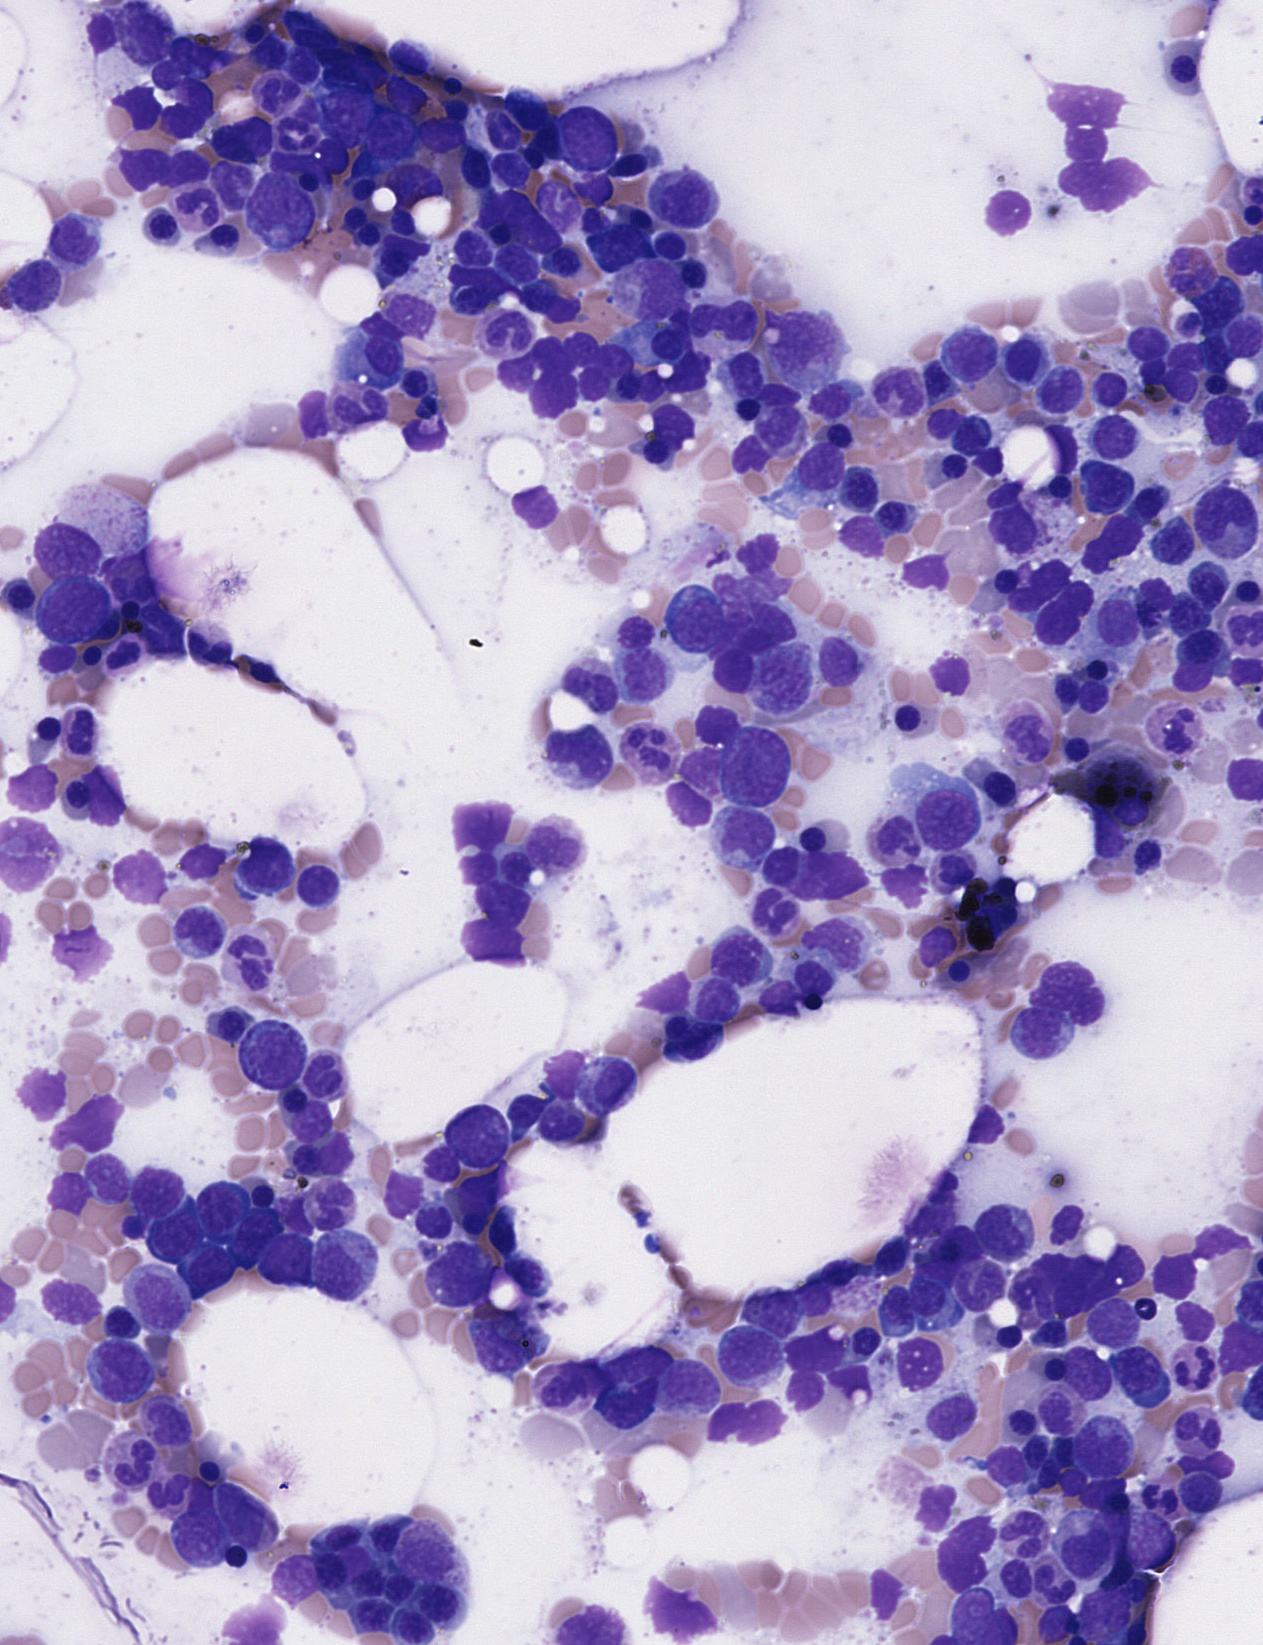objectness: (901, 1271, 951, 1321), (1014, 1006, 1064, 1056), (127, 1272, 178, 1323), (815, 913, 865, 963), (620, 730, 670, 780), (176, 176, 227, 227), (326, 382, 377, 432), (305, 1173, 356, 1223), (1024, 1555, 1075, 1605), (1011, 1271, 1061, 1321), (747, 889, 797, 939), (995, 1500, 1045, 1551), (245, 68, 296, 118), (52, 706, 102, 756), (612, 710, 662, 760), (482, 300, 532, 350), (1002, 706, 1052, 756), (295, 1055, 345, 1105), (972, 1207, 1023, 1258), (1055, 1522, 1105, 1572), (657, 1361, 707, 1412), (308, 1239, 358, 1289), (119, 7, 170, 57), (756, 401, 807, 451), (658, 172, 708, 223), (694, 291, 744, 341), (525, 821, 576, 872), (142, 1400, 192, 1450), (540, 1365, 590, 1415), (925, 840, 975, 890), (563, 110, 613, 161), (259, 1234, 309, 1284), (96, 1345, 146, 1396), (320, 85, 370, 135), (308, 129, 358, 179), (451, 1206, 501, 1256), (1043, 1189, 1093, 1239), (1035, 958, 1085, 1008), (923, 1226, 974, 1276), (626, 362, 677, 413), (964, 1100, 1015, 1150), (1048, 1259, 1098, 1309), (776, 314, 827, 365), (982, 1439, 1032, 1490), (429, 61, 479, 111), (642, 967, 693, 1018), (519, 207, 569, 257), (283, 386, 333, 436), (248, 840, 299, 890), (1028, 1239, 1079, 1289), (1154, 1251, 1205, 1301), (429, 85, 479, 135), (791, 1320, 841, 1370), (232, 110, 283, 161), (106, 586, 157, 637), (828, 505, 878, 556), (1161, 337, 1211, 387), (72, 3, 122, 53), (1173, 1295, 1223, 1345), (784, 1279, 834, 1329), (751, 369, 801, 419), (490, 874, 540, 925), (17, 1067, 68, 1117), (496, 345, 547, 395), (175, 841, 226, 891), (494, 841, 544, 891), (1133, 568, 1183, 618), (80, 767, 130, 817), (394, 417, 444, 467), (945, 325, 995, 375), (146, 33, 196, 84), (1120, 593, 1170, 643), (1055, 117, 1105, 167), (823, 1353, 873, 1404), (179, 32, 230, 82), (1076, 151, 1126, 202), (756, 840, 807, 890), (1194, 1442, 1244, 1492), (531, 353, 581, 403), (458, 1165, 508, 1215), (1088, 1296, 1138, 1347), (452, 842, 503, 893), (490, 183, 540, 233), (704, 649, 755, 699), (1125, 348, 1175, 398), (517, 374, 568, 425), (565, 166, 616, 216), (1158, 363, 1209, 414), (378, 194, 429, 244), (231, 7, 281, 57), (272, 1190, 322, 1240), (504, 482, 555, 532), (711, 589, 762, 639), (1098, 505, 1149, 556), (84, 604, 134, 654), (743, 1284, 793, 1335), (283, 86, 333, 137), (450, 272, 500, 322), (730, 524, 780, 574), (539, 1045, 589, 1096), (474, 110, 524, 161), (134, 1165, 184, 1215), (42, 1167, 93, 1218), (754, 972, 804, 1023), (723, 428, 773, 479), (379, 1163, 430, 1214), (565, 321, 616, 371), (907, 919, 958, 970), (994, 500, 1044, 551), (463, 186, 513, 236), (755, 650, 805, 700), (738, 1400, 788, 1450), (728, 617, 779, 667), (979, 182, 1030, 232), (57, 919, 107, 970), (267, 1557, 317, 1608), (279, 40, 329, 90), (1174, 1466, 1225, 1516), (291, 860, 341, 910), (689, 978, 739, 1028), (447, 220, 498, 271), (1092, 414, 1142, 464), (1118, 316, 1169, 366), (1033, 366, 1084, 417), (483, 146, 533, 196), (1083, 362, 1133, 413), (501, 1081, 552, 1132), (306, 1546, 357, 1596), (413, 1577, 463, 1628), (65, 630, 115, 681), (838, 1315, 889, 1365), (1032, 1305, 1083, 1356), (613, 191, 663, 241), (1161, 588, 1211, 638), (235, 1170, 285, 1220), (196, 211, 247, 261), (344, 211, 394, 261), (150, 1211, 200, 1262), (138, 199, 188, 249), (1191, 358, 1242, 409), (907, 354, 958, 405), (980, 556, 1031, 606), (722, 385, 772, 435), (975, 761, 1026, 812), (361, 1510, 411, 1560), (677, 1020, 727, 1071), (593, 222, 643, 272), (982, 1312, 1032, 1362), (391, 356, 442, 406), (267, 1075, 317, 1125), (1117, 1348, 1167, 1398), (1083, 462, 1133, 512), (211, 1531, 261, 1581), (313, 1510, 364, 1560), (1124, 479, 1174, 529), (1149, 517, 1199, 568), (600, 360, 650, 410), (539, 232, 589, 283), (455, 1108, 505, 1158), (353, 326, 403, 375), (639, 318, 690, 367), (46, 214, 96, 264), (617, 647, 667, 696), (172, 905, 222, 955), (714, 807, 764, 856), (139, 1470, 188, 1520), (950, 1266, 1000, 1315), (868, 813, 917, 864), (103, 561, 153, 612), (1174, 1347, 1225, 1396), (222, 935, 272, 984), (876, 367, 926, 417), (1171, 1408, 1222, 1457), (1153, 704, 1203, 754), (267, 107, 316, 158), (179, 624, 230, 673), (395, 1531, 444, 1581), (1075, 1426, 1124, 1477), (1167, 241, 1218, 291), (563, 651, 612, 702), (1033, 1381, 1083, 1431), (724, 1328, 773, 1378), (41, 586, 92, 635), (253, 176, 302, 227), (734, 739, 783, 789), (5, 757, 54, 808), (1124, 1518, 1174, 1567), (539, 285, 588, 336), (1191, 1214, 1240, 1264), (811, 1246, 860, 1296), (130, 590, 180, 639), (1080, 1266, 1130, 1315), (917, 397, 967, 446), (60, 1102, 110, 1151), (1061, 1349, 1110, 1400), (219, 1492, 269, 1542), (929, 647, 979, 696), (689, 699, 738, 750), (646, 222, 697, 271), (911, 1169, 961, 1219), (38, 521, 88, 572), (612, 1336, 661, 1386), (1045, 1458, 1095, 1508), (535, 1098, 584, 1149), (710, 933, 760, 982), (383, 28, 432, 78), (703, 562, 754, 612), (659, 777, 710, 826), (905, 543, 955, 592), (1022, 1449, 1071, 1499), (811, 371, 860, 422), (878, 857, 927, 907), (78, 1155, 127, 1206), (500, 88, 551, 137), (1030, 596, 1080, 645), (1063, 70, 1113, 119), (645, 401, 695, 450), (1191, 326, 1240, 377), (858, 1561, 909, 1611), (911, 1484, 961, 1535), (312, 1130, 362, 1179), (513, 123, 564, 172), (491, 237, 541, 287), (659, 352, 710, 401), (677, 744, 726, 795), (1031, 551, 1081, 600), (1067, 671, 1117, 720), (145, 608, 194, 658), (176, 73, 226, 123), (647, 1587, 698, 1636), (789, 950, 838, 1000), (899, 1336, 949, 1386), (1098, 1243, 1148, 1293), (901, 1195, 951, 1244), (923, 1154, 972, 1205), (386, 222, 436, 271), (383, 158, 432, 208), (237, 643, 287, 694), (501, 1248, 551, 1299), (990, 1553, 1040, 1603), (417, 105, 466, 155), (165, 141, 214, 191), (604, 1374, 653, 1425), (1041, 421, 1092, 470), (746, 594, 796, 643), (799, 439, 848, 490), (1083, 1571, 1132, 1621), (700, 1396, 751, 1445), (109, 1201, 159, 1250), (964, 435, 1014, 486), (1063, 541, 1113, 590), (263, 137, 313, 186), (1166, 295, 1217, 344), (927, 1390, 978, 1439), (781, 1366, 832, 1415), (31, 631, 80, 682), (614, 605, 663, 655), (1083, 813, 1132, 864), (287, 1094, 336, 1145), (1124, 826, 1174, 876), (1047, 574, 1097, 624), (474, 1328, 523, 1378), (532, 322, 582, 371), (1088, 596, 1138, 645), (245, 25, 295, 76), (405, 1199, 455, 1248), (933, 946, 982, 996), (50, 765, 100, 816), (1175, 620, 1226, 669), (653, 1002, 703, 1051), (1156, 42, 1206, 92), (367, 237, 417, 288), (999, 336, 1049, 385), (374, 1565, 425, 1614), (926, 436, 976, 486), (341, 1557, 391, 1607), (880, 689, 929, 739), (1030, 1340, 1079, 1390), (1039, 665, 1089, 714), (344, 1591, 393, 1641), (815, 407, 865, 456), (182, 1248, 232, 1297), (866, 490, 915, 540), (1053, 726, 1104, 775), (1193, 279, 1243, 328), (673, 596, 722, 646), (834, 467, 884, 517), (94, 1297, 145, 1347), (1183, 559, 1232, 609), (629, 428, 679, 478), (184, 1445, 233, 1495), (248, 1029, 299, 1079), (432, 1250, 482, 1300), (870, 1282, 919, 1331), (103, 1439, 153, 1488), (1136, 1477, 1185, 1526), (586, 1059, 635, 1108), (1199, 490, 1248, 539), (172, 1512, 222, 1561), (383, 70, 432, 119), (202, 119, 251, 168), (153, 99, 202, 149), (448, 139, 498, 188), (464, 915, 513, 964), (1079, 1469, 1128, 1518), (937, 1524, 986, 1573), (570, 196, 620, 245), (1191, 387, 1240, 436), (111, 846, 161, 895), (590, 338, 639, 387), (107, 78, 157, 127), (720, 348, 769, 397), (1067, 984, 1116, 1033), (460, 795, 509, 844), (509, 271, 559, 320), (111, 143, 161, 192), (976, 470, 1026, 519), (608, 141, 657, 190), (862, 1232, 911, 1282), (819, 639, 868, 689), (801, 850, 850, 899), (42, 1278, 92, 1327), (383, 287, 432, 336), (1006, 1427, 1055, 1477), (943, 417, 992, 466), (23, 704, 72, 754), (996, 1400, 1045, 1449), (1037, 462, 1087, 511), (196, 1183, 245, 1232), (206, 1000, 255, 1049), (281, 1136, 330, 1185), (671, 249, 720, 298), (789, 811, 838, 860), (1075, 643, 1124, 692), (0, 830, 48, 880), (1217, 228, 1263, 279), (1218, 1325, 1263, 1374), (954, 1601, 1004, 1645), (0, 570, 44, 620), (1221, 601, 1263, 651), (1221, 310, 1263, 361), (387, 1603, 436, 1645), (560, 1604, 610, 1645), (1222, 643, 1263, 692), (1223, 562, 1263, 612), (1226, 751, 1263, 801), (1229, 414, 1263, 464)
